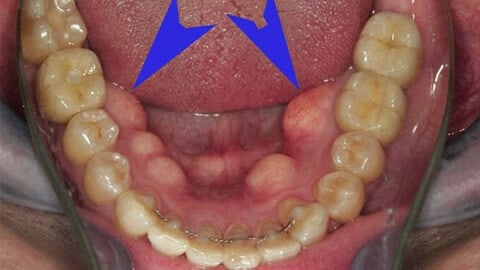LL1BC_healthy: (320, 174, 364, 219)
LL1M_healthy: (339, 74, 403, 139)
LL2BC_healthy: (332, 133, 385, 180)
LL2M_healthy: (357, 14, 419, 74)
LLCI_decay: (224, 226, 260, 270)
LLC_healthy: (292, 198, 326, 242)
LLLI_decay: (260, 220, 299, 260)
LR1BC_healthy: (84, 152, 131, 198)
LR1M_decay: (37, 50, 104, 118)
LR2BC_decay: (63, 109, 119, 158)
LR2M_decay: (26, 1, 86, 56)
LRCI_decay: (186, 223, 223, 265)
LRC_decay: (117, 190, 157, 236)
LRLI_decay: (150, 218, 189, 255)
